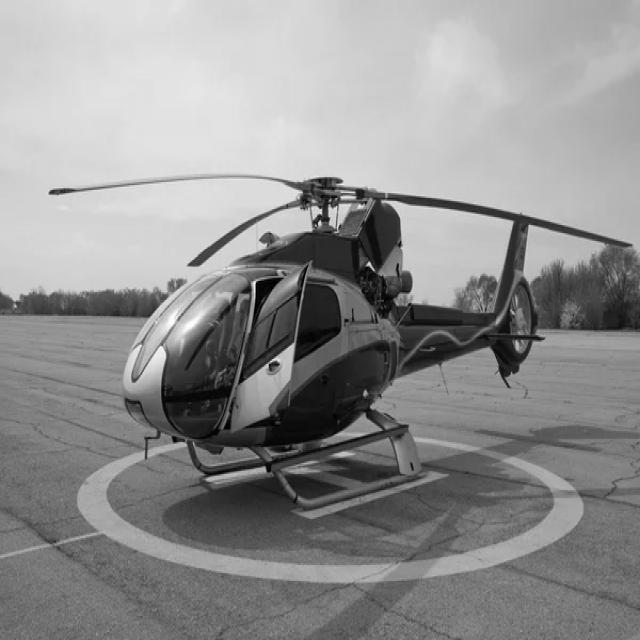Helicopter: (50, 174, 629, 509)
